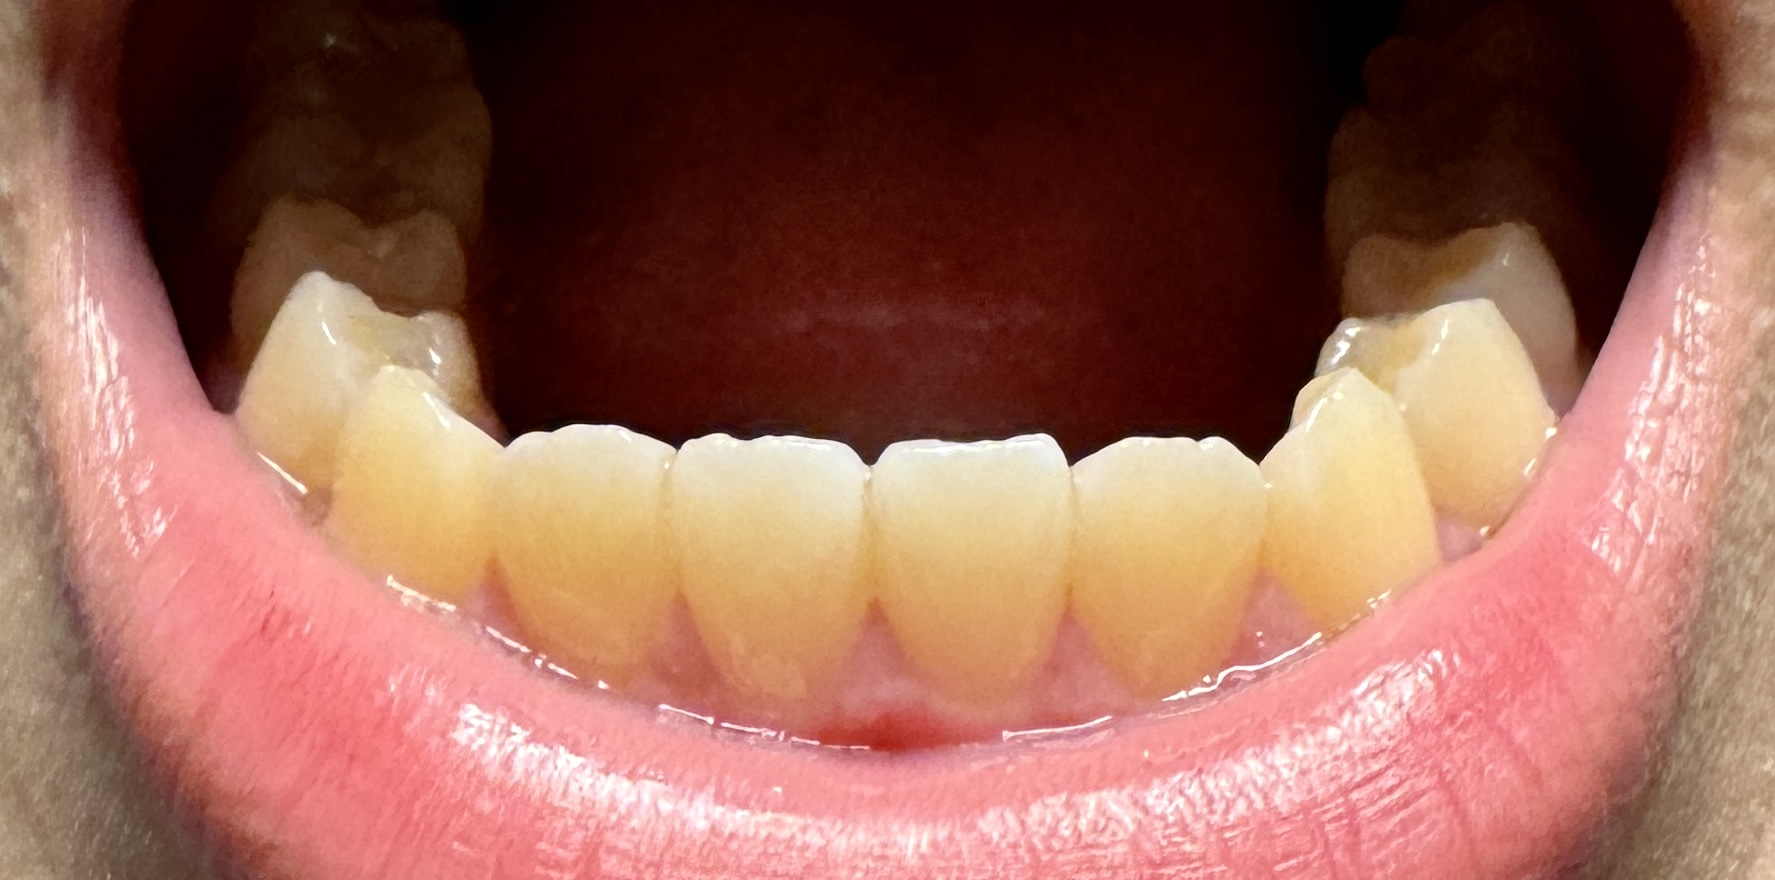teeth: (1097, 458, 1252, 687), (680, 453, 837, 669), (911, 460, 1041, 686), (507, 436, 648, 642), (1377, 225, 1563, 361), (1414, 317, 1547, 495), (1310, 399, 1426, 600), (348, 382, 464, 570), (252, 292, 342, 441), (289, 208, 445, 284)
